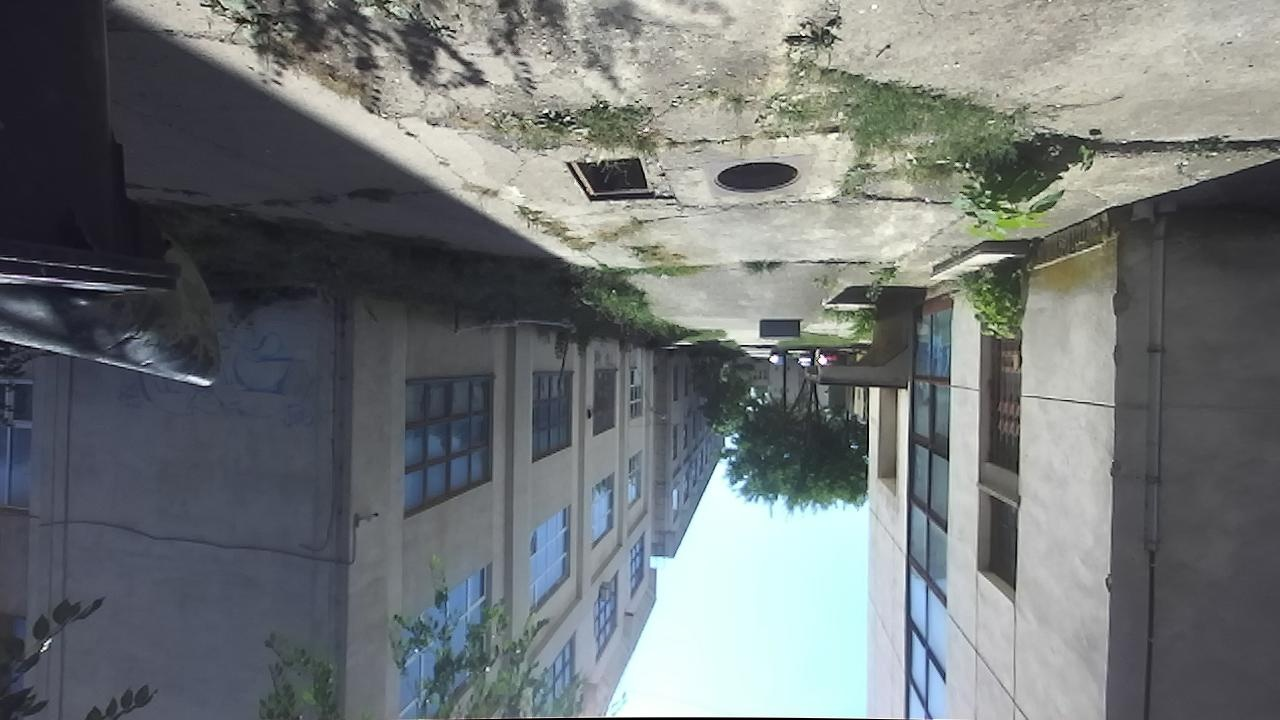drain: (556, 151, 657, 207), (707, 160, 808, 198)
